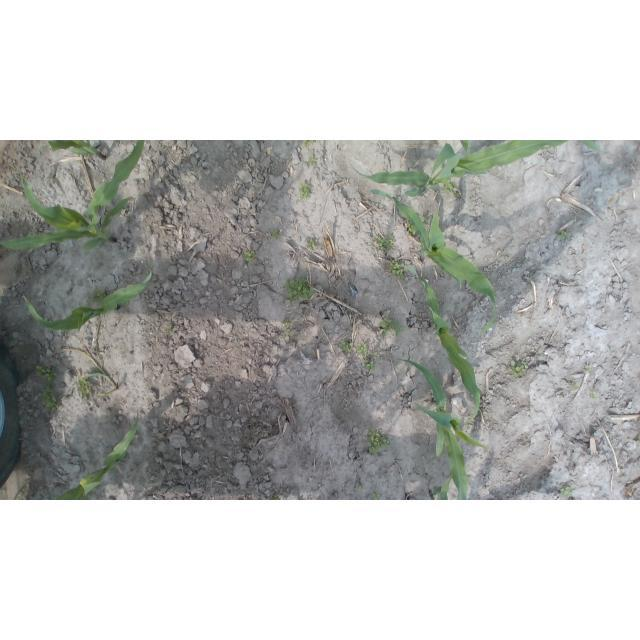Maize: (370, 187, 499, 333), (0, 141, 146, 250), (351, 140, 603, 198), (397, 358, 487, 500), (407, 265, 482, 421), (23, 261, 154, 330), (53, 408, 140, 500), (49, 140, 108, 160)
Weeds: (282, 277, 310, 301), (357, 345, 375, 372), (367, 431, 385, 453), (44, 383, 57, 409), (33, 365, 51, 380), (75, 379, 89, 398), (374, 237, 393, 251), (380, 320, 400, 333), (511, 360, 527, 376), (390, 261, 404, 274), (282, 318, 291, 338), (300, 184, 311, 200), (243, 253, 257, 264), (443, 180, 454, 193), (561, 488, 572, 501), (340, 342, 350, 354), (307, 240, 316, 248), (270, 231, 278, 240), (303, 140, 313, 145), (559, 230, 567, 236), (371, 495, 380, 500), (585, 365, 592, 371), (309, 157, 315, 164), (168, 327, 172, 336), (590, 393, 596, 399), (573, 383, 579, 389)
